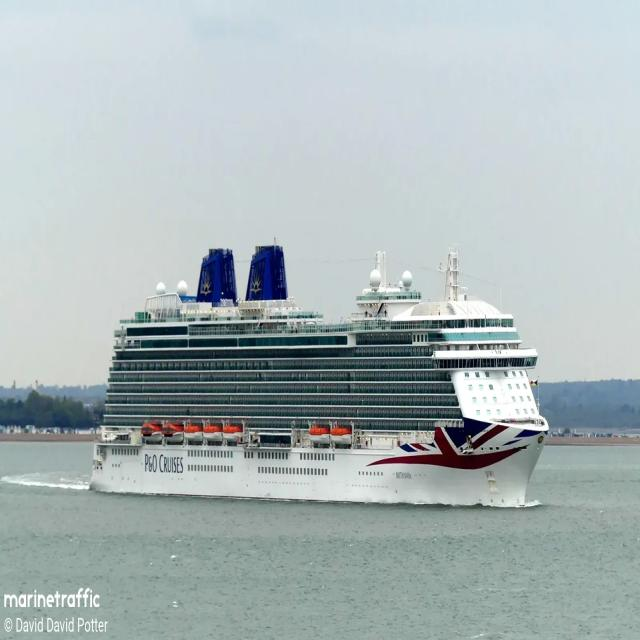Cruise: (90, 245, 548, 506)
